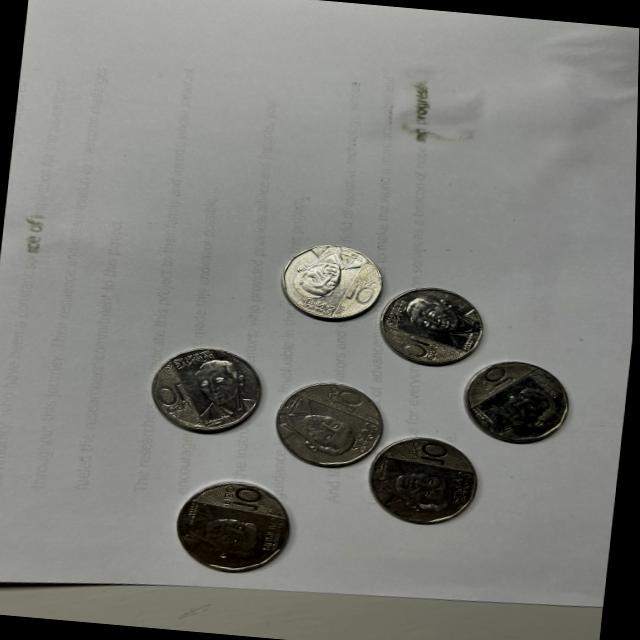10_New_Front: (147, 372, 195, 408), (398, 329, 444, 364), (211, 483, 269, 510), (344, 267, 384, 306), (405, 438, 451, 466), (320, 386, 368, 410), (487, 359, 521, 387)
